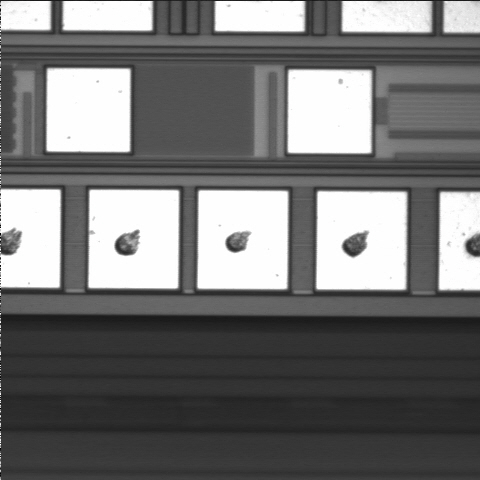pad: (198, 190, 288, 289), (317, 191, 407, 290), (89, 190, 179, 288), (47, 69, 130, 152), (288, 70, 371, 153)
